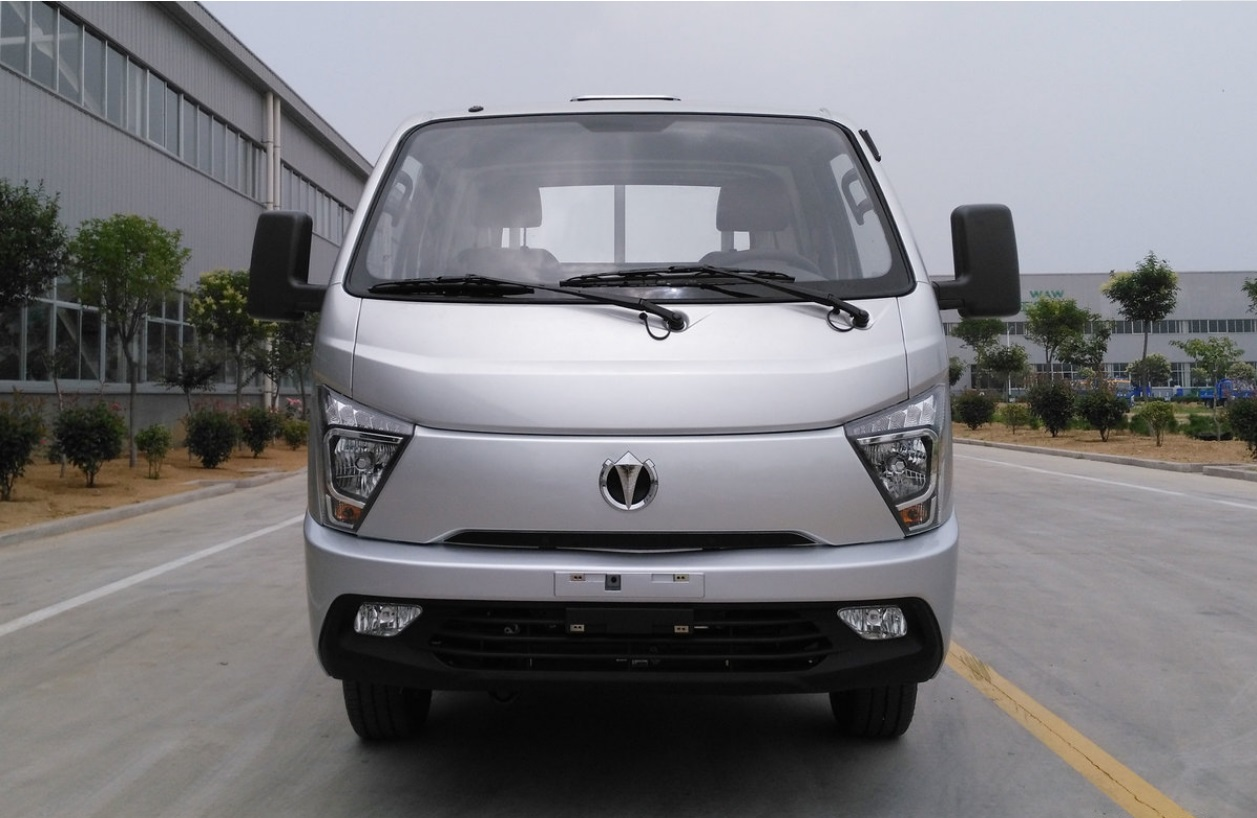truck: (246, 91, 1025, 763)
